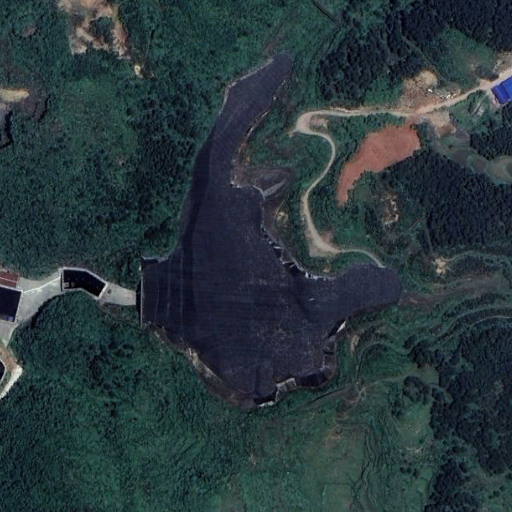lf: (144, 55, 403, 407)
